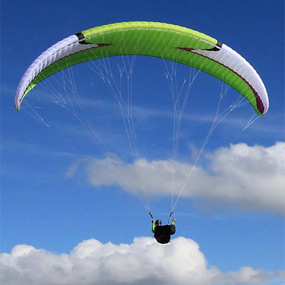Paraglider: (12, 20, 267, 140)
